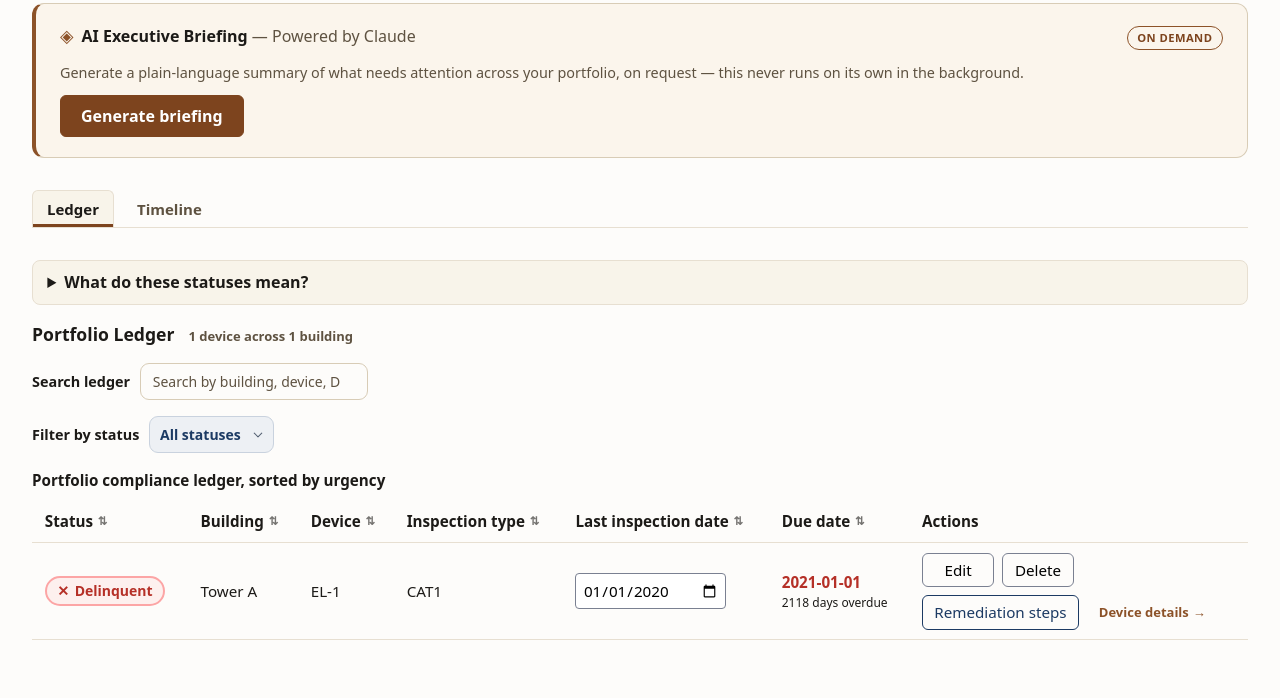
Test: App › disables the inline date input for a row while its Edit form is open, preventing the stale-overwrite race
(page scrolled)
Click the button with aria-label "edit el-1": {"x": 958, "y": 570} top-left (922, 553), bottom-right (994, 587)
(page scrolled)
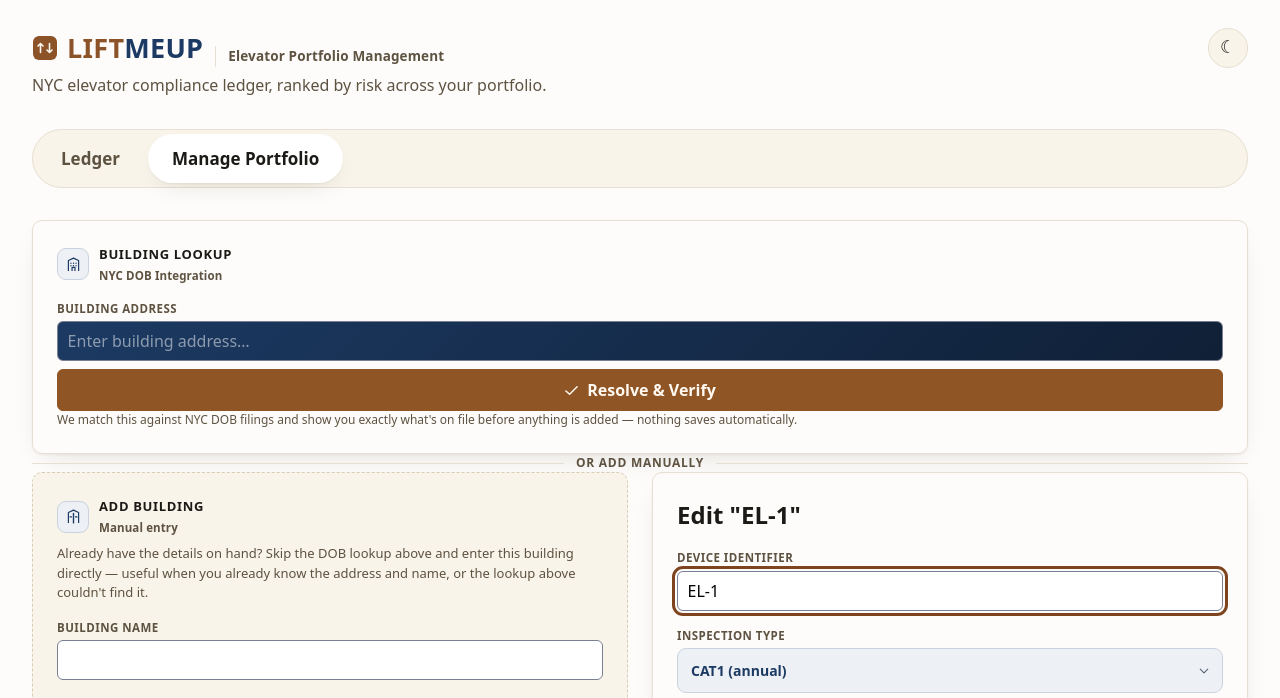
Click the tab "Ledger": {"x": 90, "y": 158} top-left (37, 134), bottom-right (144, 183)
(page scrolled)
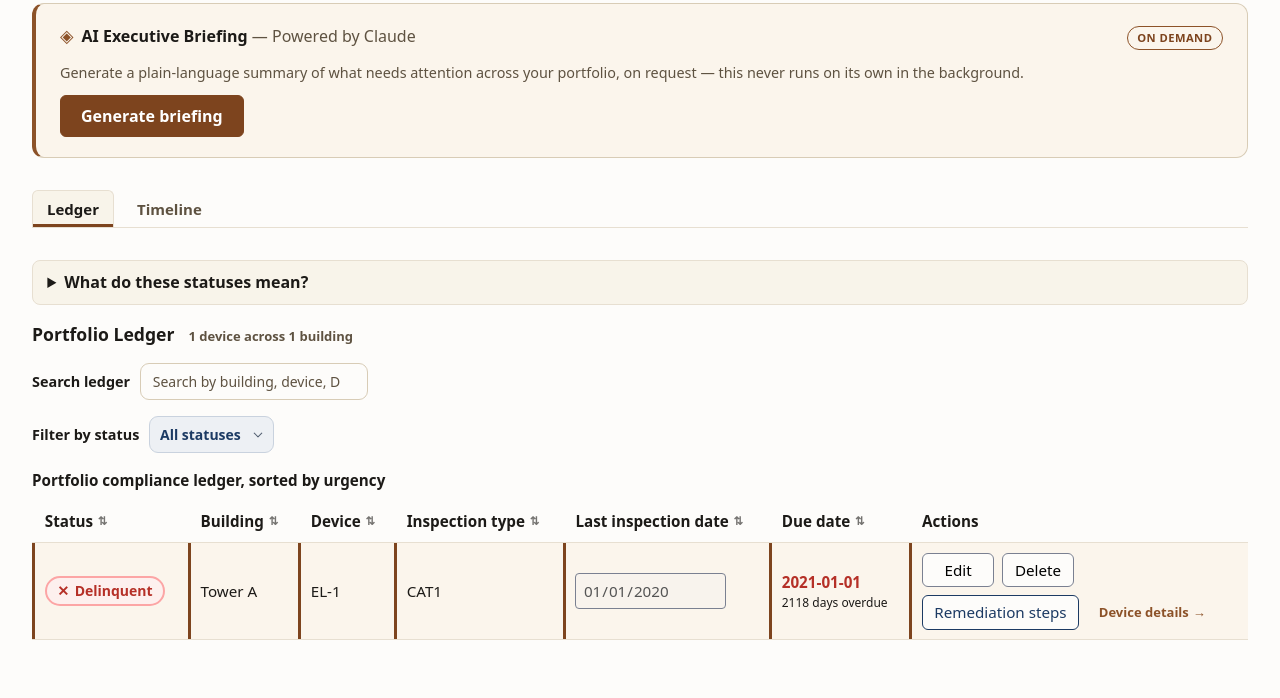
Result: the date field named "last inspection date for el-1" is disabled at top-left (576, 573), bottom-right (726, 609)
